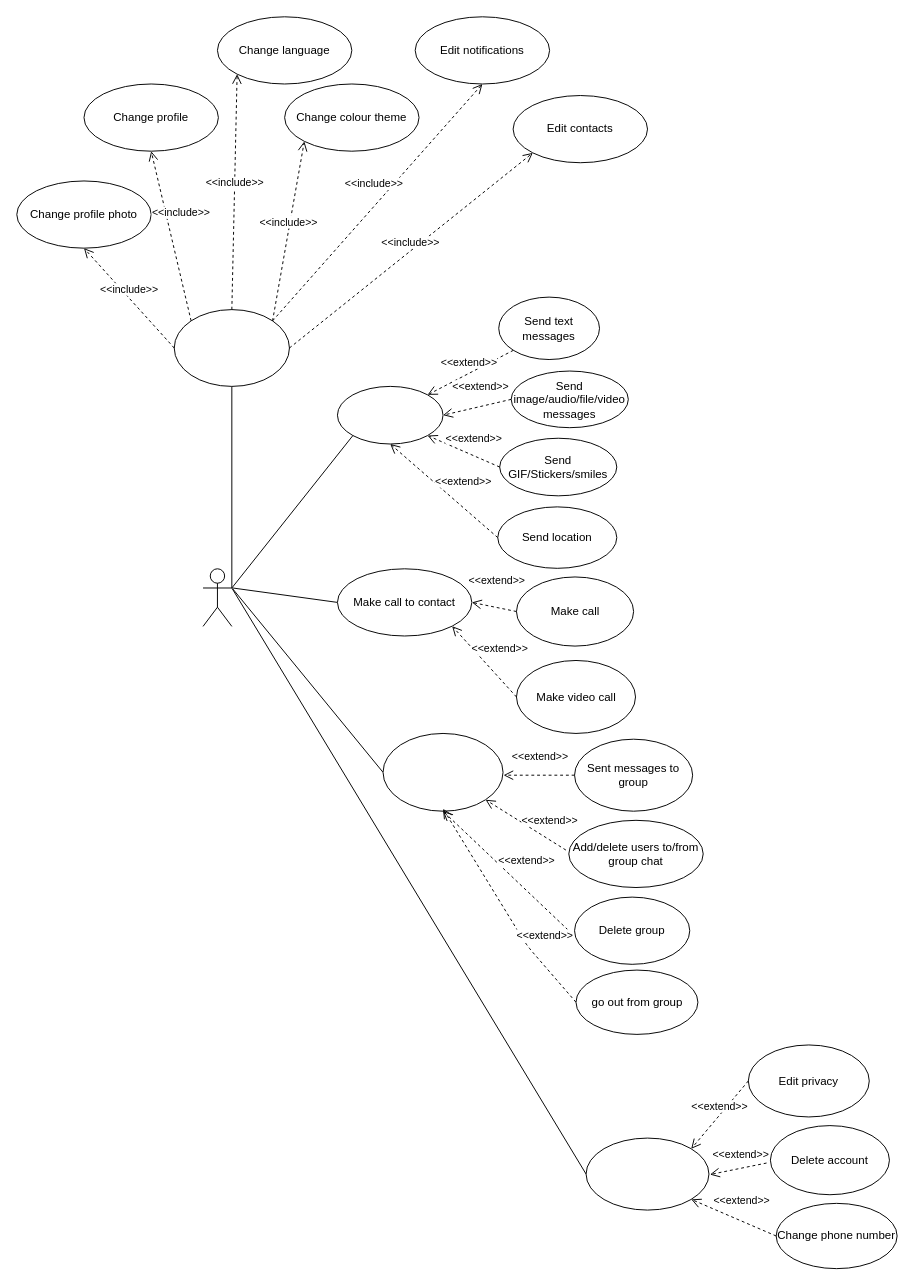
The diagram is 914 pixels wide and 1285 high, and some of its shapes have lost their labels. Each missing label, with the centre of its shape:
"Change settings" goes at pixel 231 347.
"Chat with contact" goes at pixel 389 414.
"Create a Group Chat" goes at pixel 442 771.
"Manage account" goes at pixel 647 1173.
"User" goes at pixel 217 597.
